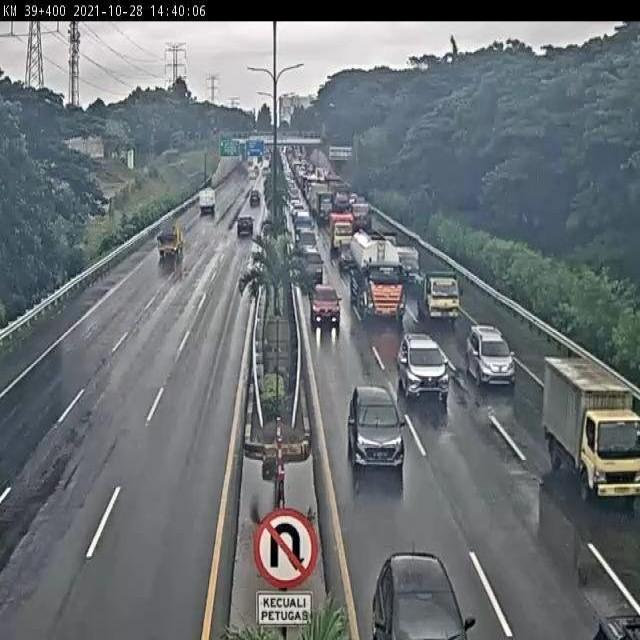car: (348, 382, 405, 467), (465, 326, 516, 391), (400, 335, 451, 397), (307, 283, 342, 325), (301, 250, 325, 286), (297, 227, 318, 253), (339, 246, 356, 270), (237, 211, 255, 233)
small truck: (156, 218, 185, 258)
truck-m-: (418, 269, 463, 324), (329, 211, 356, 249)
truck-s-: (543, 355, 640, 508), (397, 245, 422, 280)
truck-xl-: (353, 230, 408, 318)
